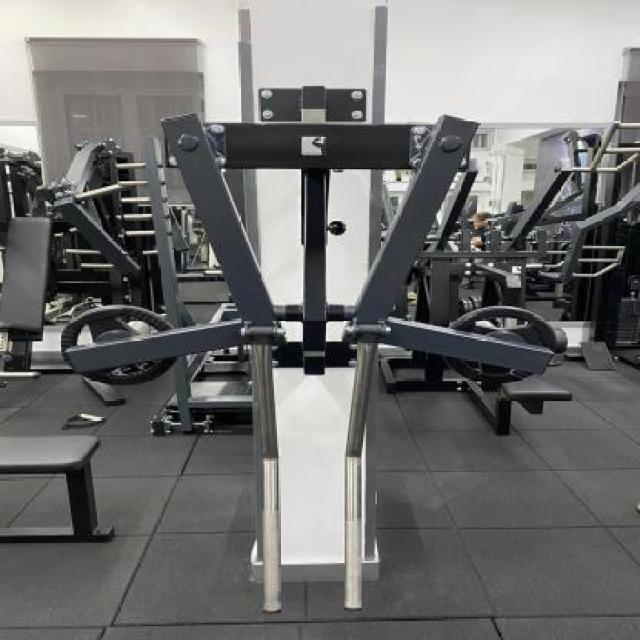lateral raises machine: (68, 112, 558, 620)
